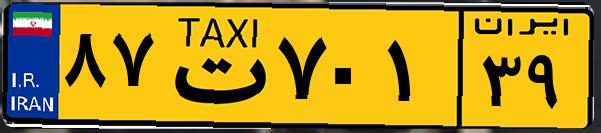0: (330, 28, 385, 110)
1: (385, 28, 445, 110)
3: (475, 38, 525, 113)
7: (270, 28, 330, 110), (110, 28, 158, 98)
8: (57, 26, 110, 100)
9: (525, 38, 570, 115)
ت: (158, 12, 270, 120)
